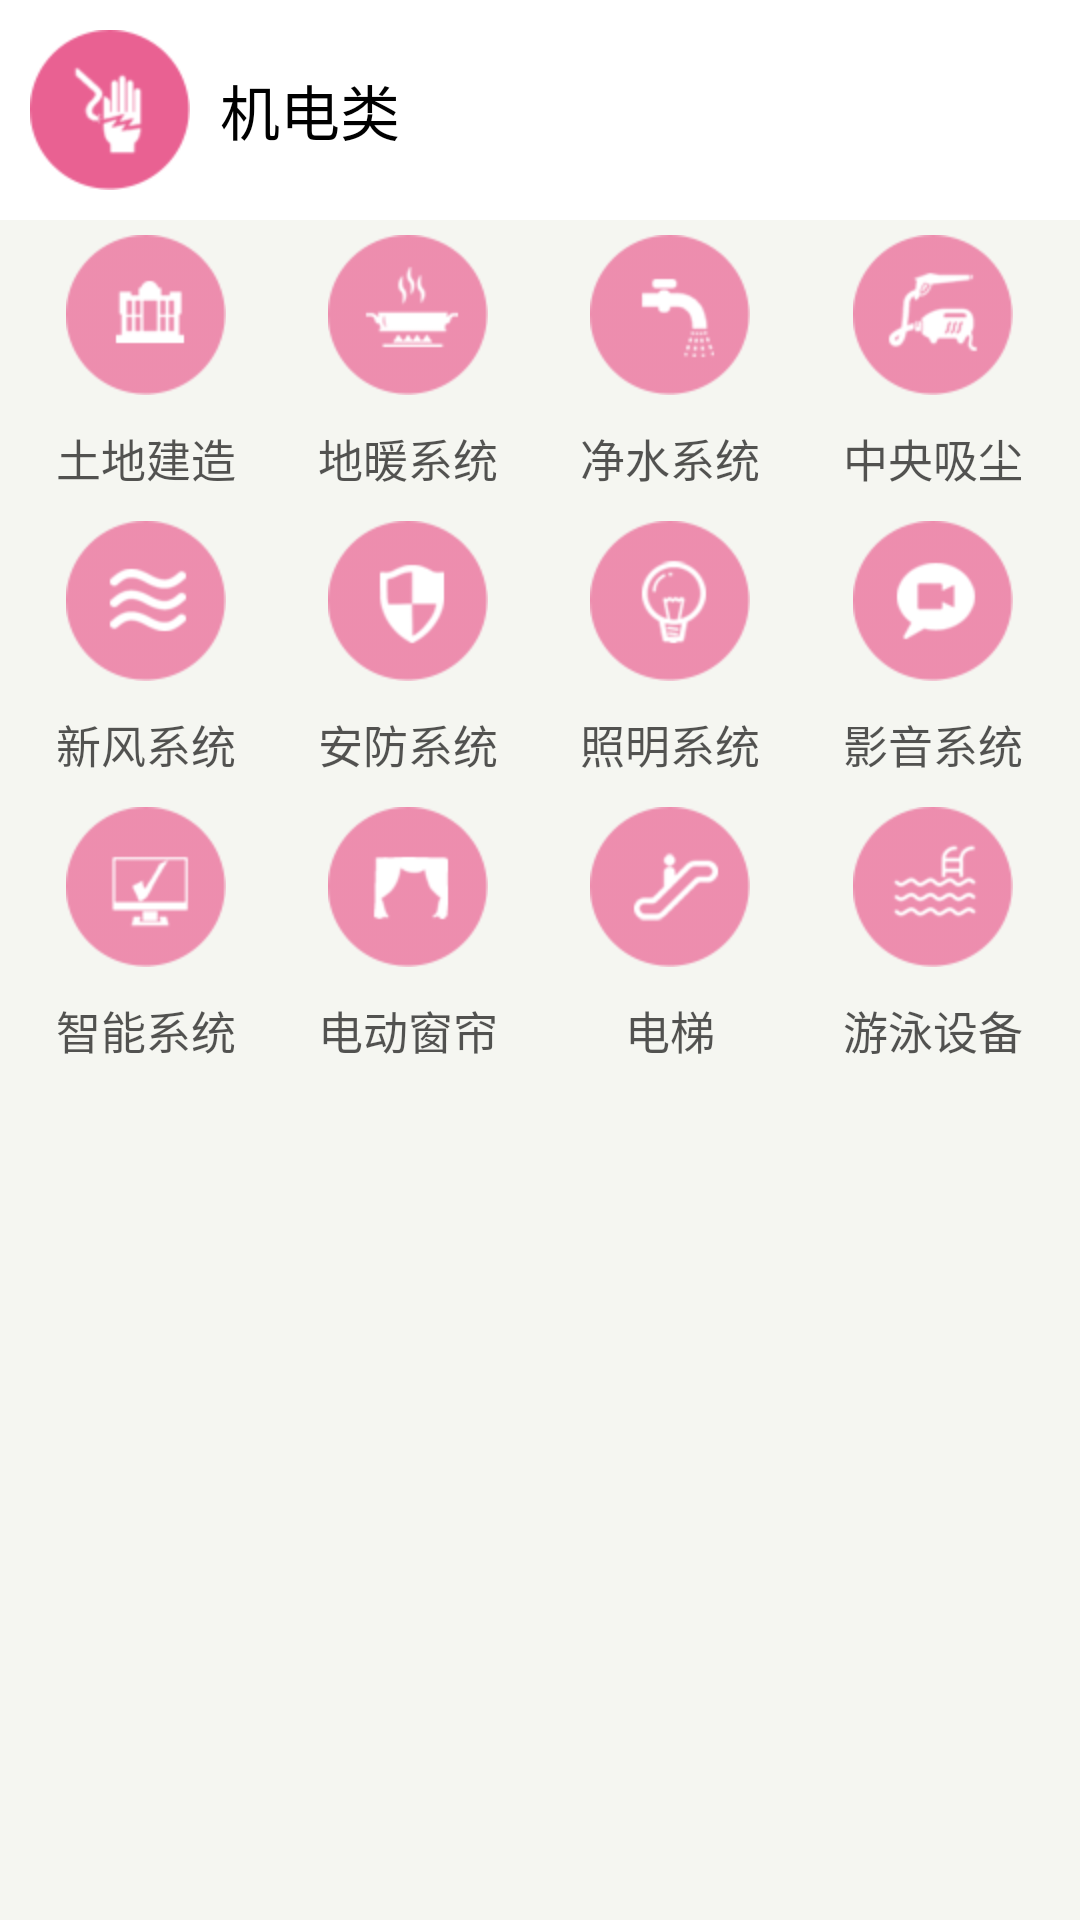

Where icons sit on this 1080w x 1920h app screen, as [left=x1, top=y1, right=x2, bottom=y2]:
left menu elec: [left=30, top=30, right=190, bottom=190]
